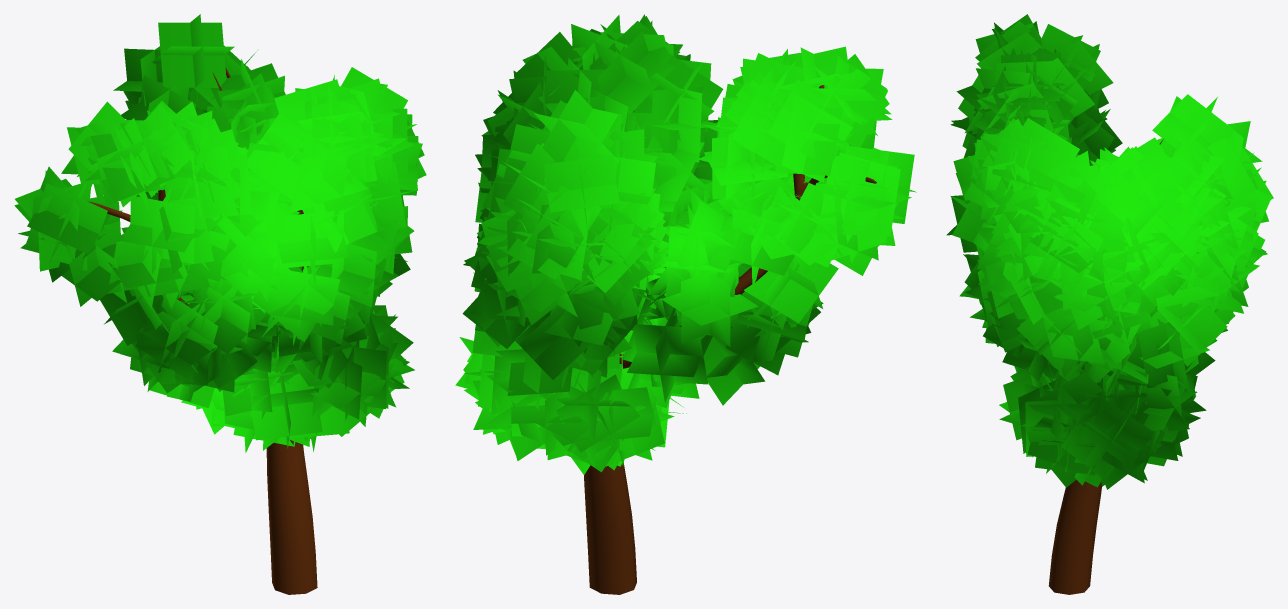
Rendered from Tree2.fbx.
The picture shows the model from 3 angles, left to right: view 1: azimuth 30°, elevation 25°; view 2: azimuth 150°, elevation 25°; view 3: azimuth 270°, elevation 25°; orthographic projection. The views are drawn at different scales.
Parts seen in each view (by area): view 1: Tree2_LOD0; view 2: Tree2_LOD0; view 3: Tree2_LOD0.
Part boxes in pixels (x1,y1,x2,y2): Tree2_LOD0: (14, 14, 426, 594); Tree2_LOD0: (455, 14, 916, 594); Tree2_LOD0: (946, 14, 1273, 594).
Size of what is drawn, in the model's own units: 1392 by 1759 by 1077.
